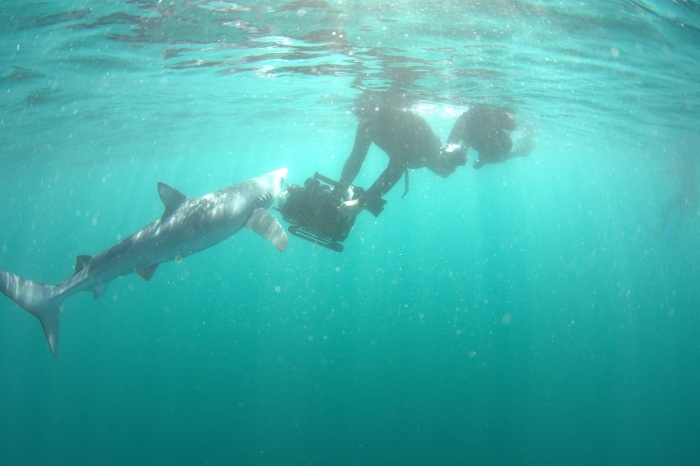Azul: (1, 158, 299, 360)
